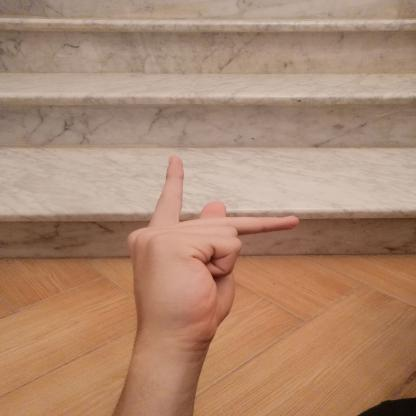DHAA: (112, 146, 308, 354)
